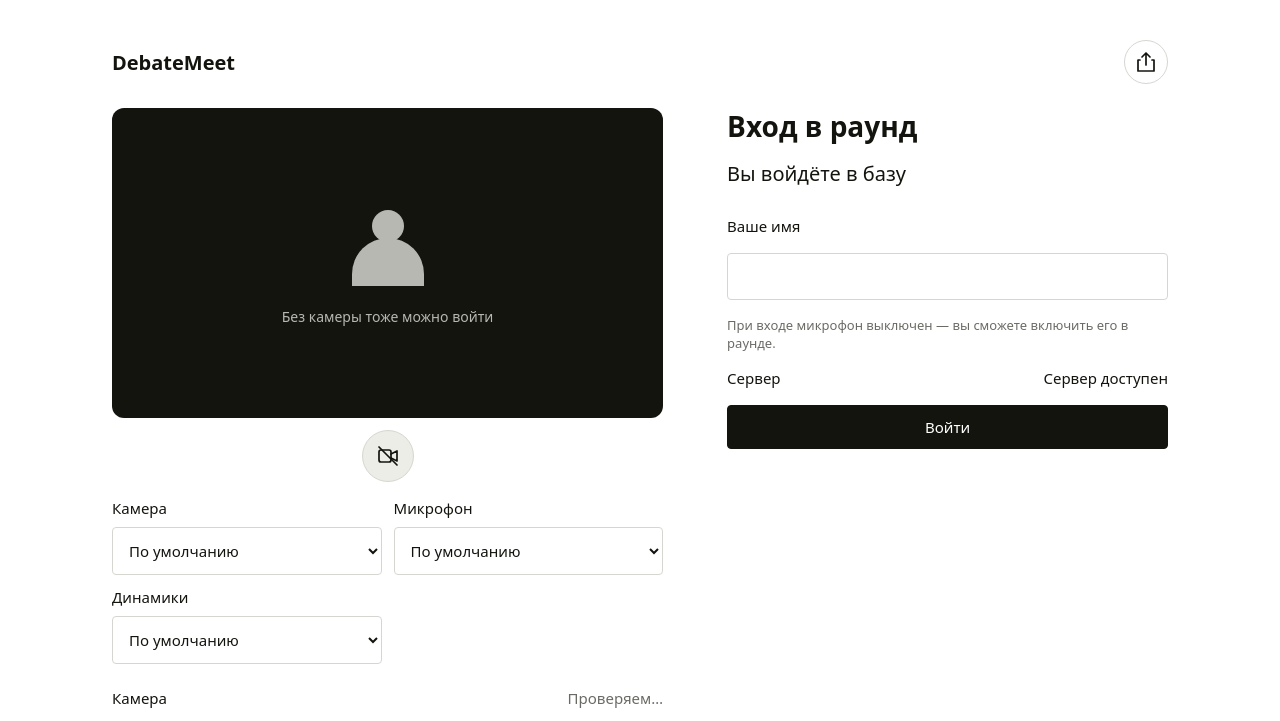
responsive meeting navigation › places infrastructure controls before the compact debate content and keeps warnings outside that toolbar
This screenshot has width=1280, height=721.
Type "Вика" into the field labelled "Ваше имя" at (948, 276), box x1=727 y1=253 x2=1168 y2=300
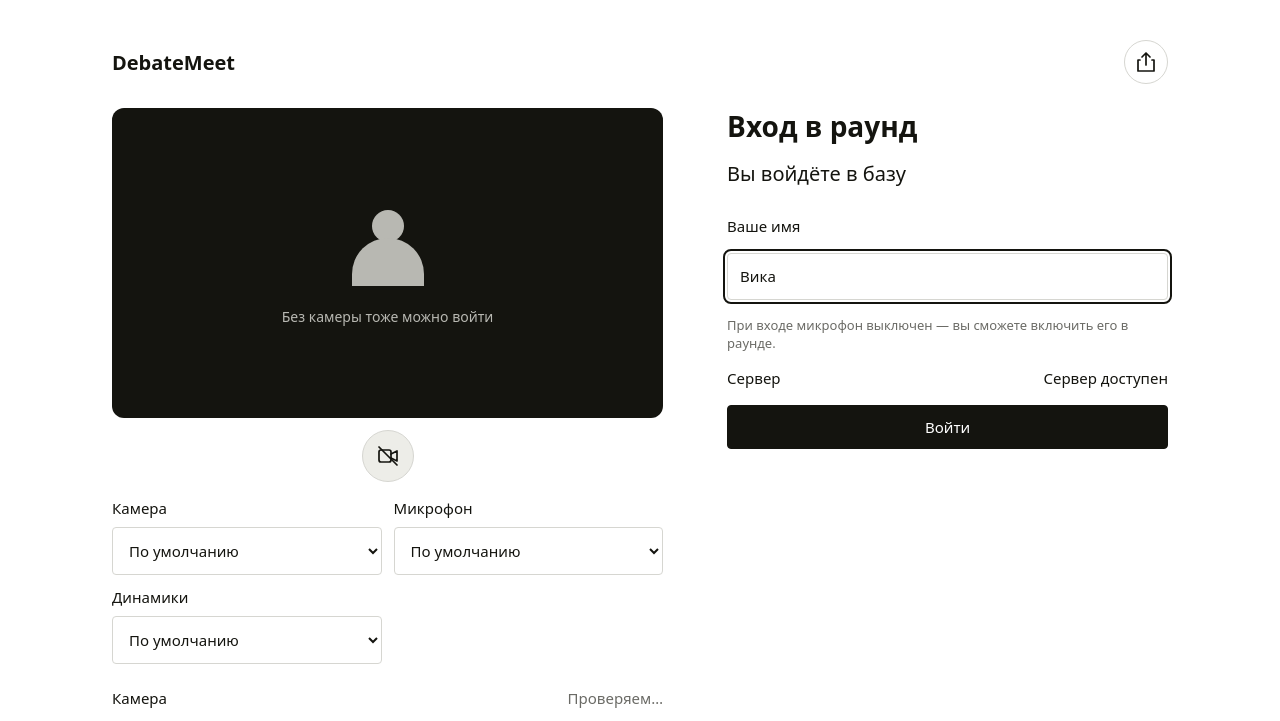
Click the button "Войти" at (948, 427), box x1=727 y1=405 x2=1168 y2=449
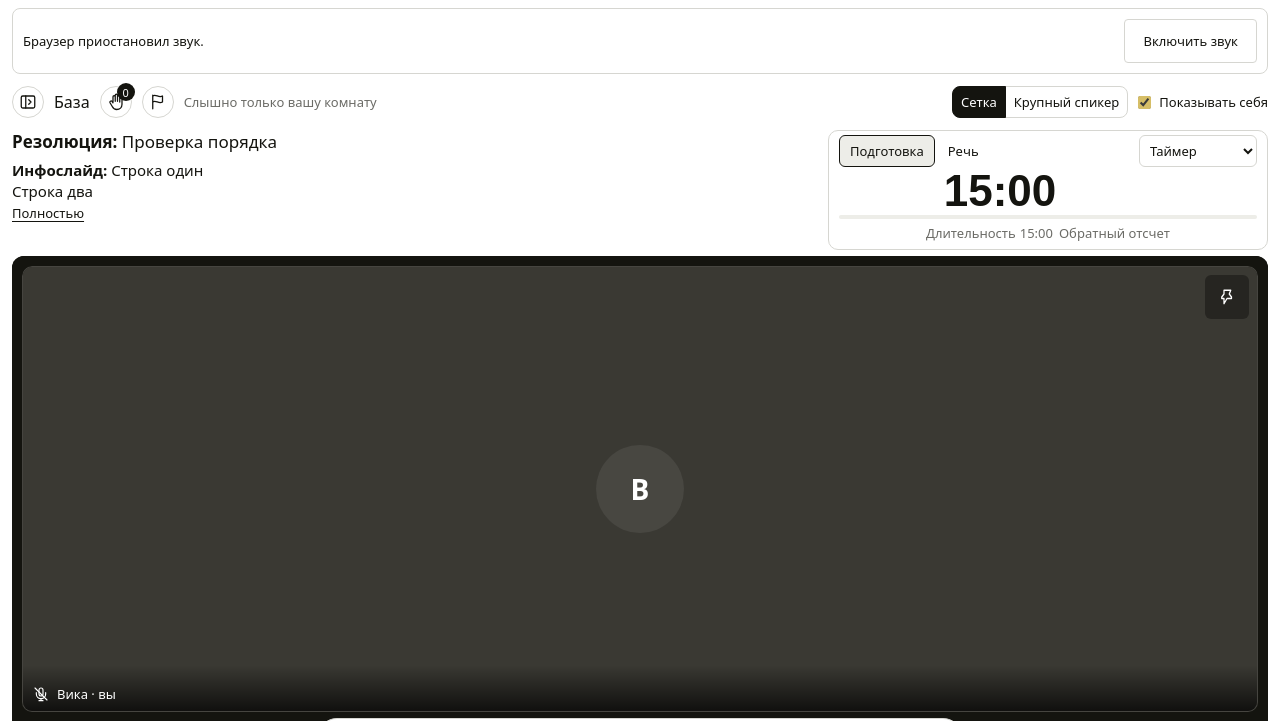
Now the heading "База" is shown, box x1=54 y1=92 x2=90 y2=112
Now the button "Крупный спикер" is shown, box x1=1005 y1=86 x2=1128 y2=118
Now the element with class "timer-health" is shown, box x1=12 y1=8 x2=1268 y2=74
